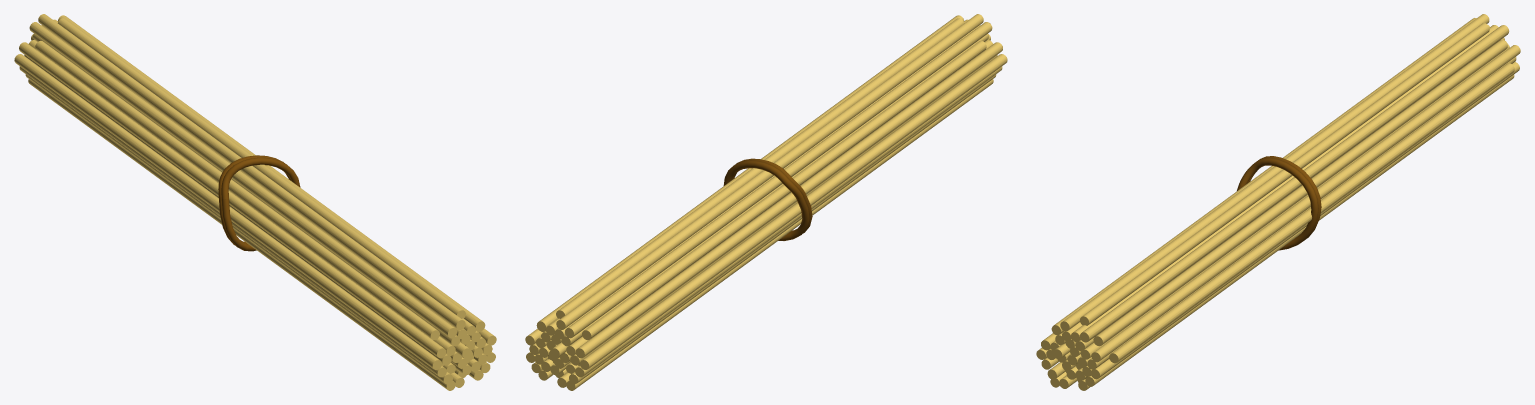
Rendered from pâtes.glb.
The picture shows the model from 3 angles, left to right: view 1: azimuth 30°, elevation 25°; view 2: azimuth 150°, elevation 25°; view 3: azimuth 330°, elevation 25°; orthographic projection.
Visible parts, largest first — view 1: Cylinder045, BézierCurve001, BézierCurve; view 2: Cylinder045, BézierCurve, BézierCurve001; view 3: Cylinder045, BézierCurve001, BézierCurve.
Boxes of the visible parts, bbox=[...] form: Cylinder045: bbox=[14, 14, 496, 390]; BézierCurve001: bbox=[221, 157, 300, 251]; BézierCurve: bbox=[218, 155, 291, 245]; Cylinder045: bbox=[525, 14, 1007, 390]; BézierCurve: bbox=[723, 160, 809, 240]; BézierCurve001: bbox=[732, 158, 812, 233]; Cylinder045: bbox=[1036, 14, 1520, 390]; BézierCurve001: bbox=[1237, 158, 1318, 250]; BézierCurve: bbox=[1247, 156, 1321, 238].
Bounding box in the file's own units: 0.4998 × 0.4976 × 4.65.
